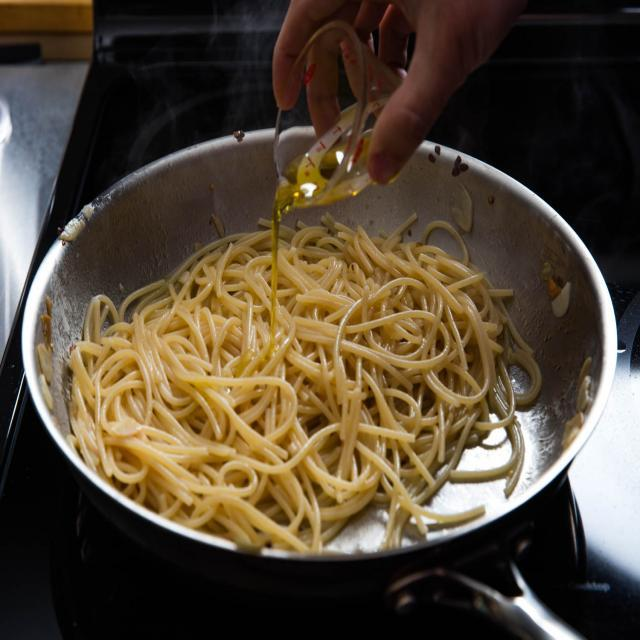Oil pasta: (61, 86, 597, 568)
